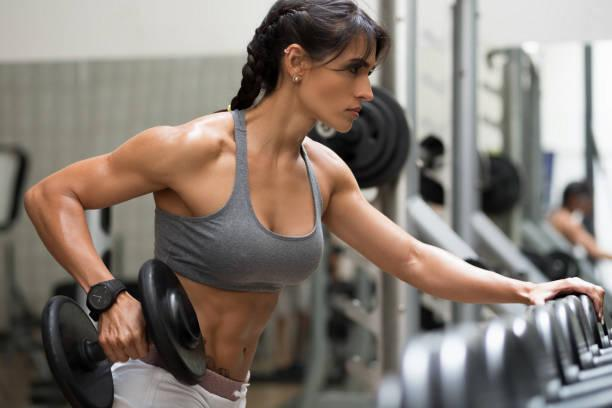no_helmet: (243, 69, 403, 143)
none: (89, 137, 381, 328)
